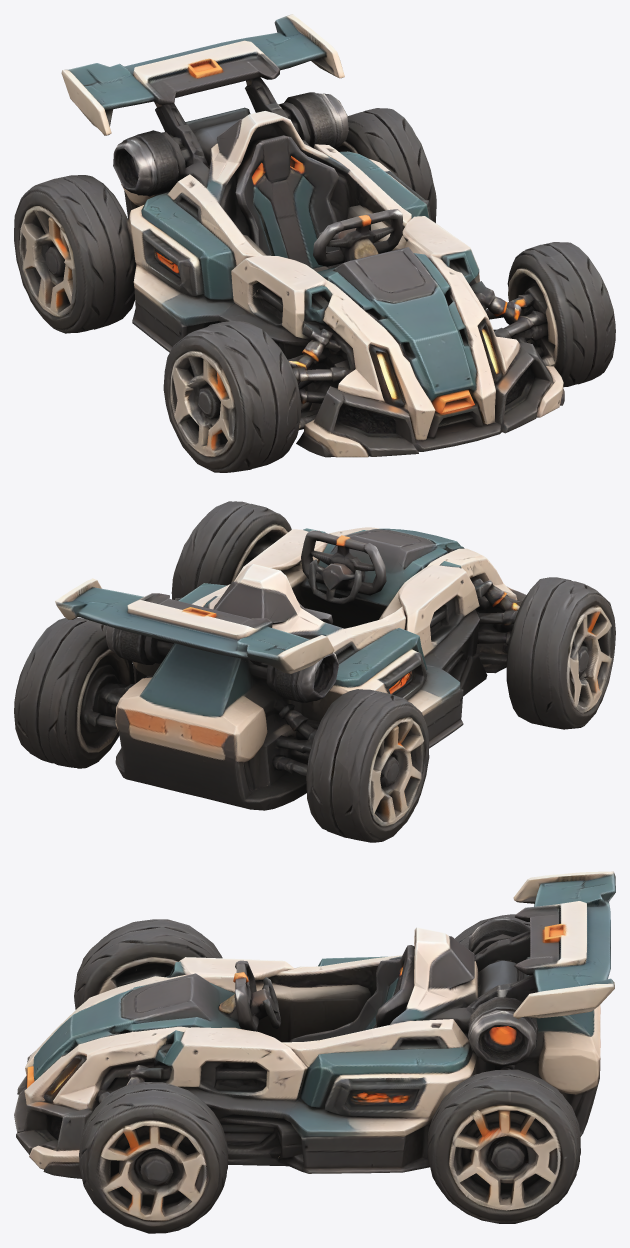
Rendered from 06-teal-courier-shaded.glb.
The picture shows the model from 3 angles, top to bottom: view 1: azimuth 30°, elevation 25°; view 2: azimuth 150°, elevation 25°; view 3: azimuth 270°, elevation 25°; orthographic projection. The views are drawn at different scales.
Visible parts, largest first — view 1: model; view 2: model; view 3: model.
Boxes of the visible parts, x1,y1,x2,y2 form: model: (14, 14, 615, 472); model: (14, 501, 615, 842); model: (14, 871, 615, 1233).
Size of the model in its own units: 1.49 by 0.7684 by 1.9.
1 material, 1 textured.
